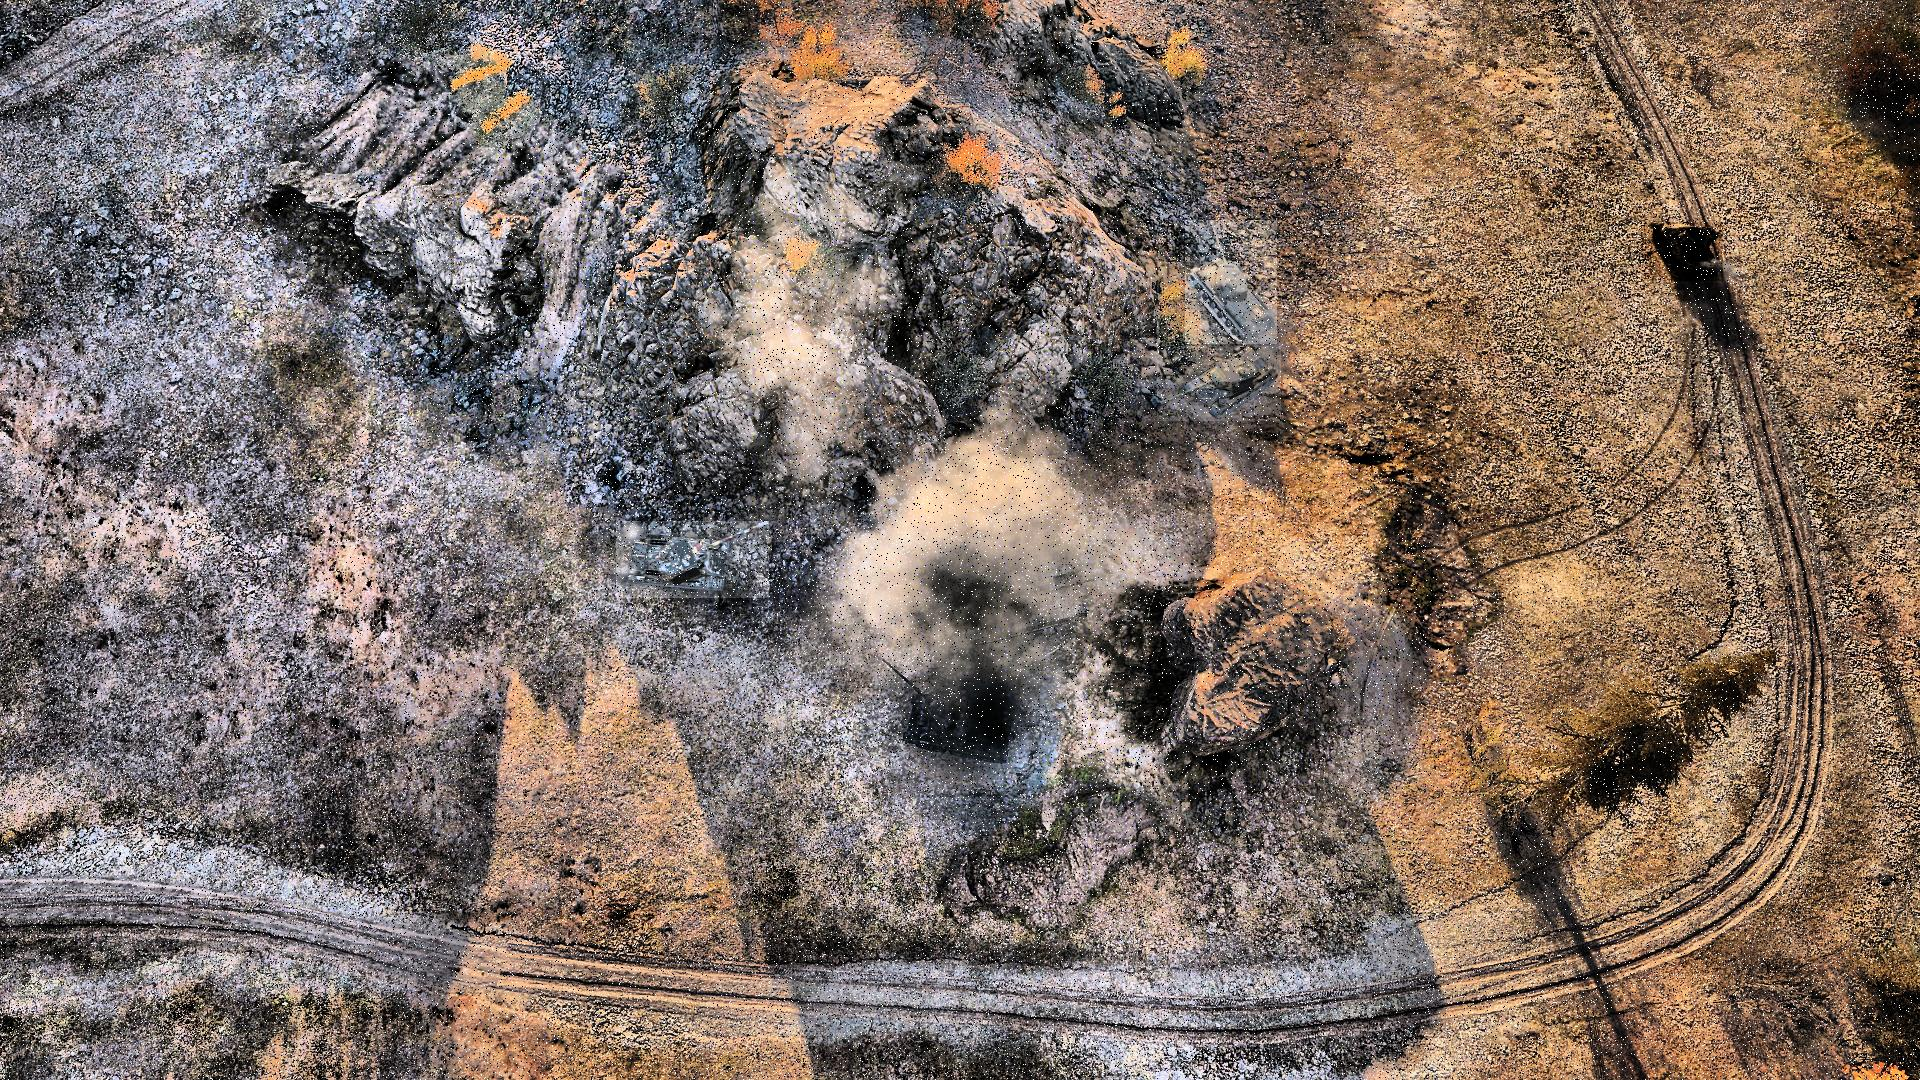military-vehicle: (616, 522, 769, 599), (1185, 220, 1278, 345), (1158, 347, 1282, 422), (1642, 223, 1724, 282)
